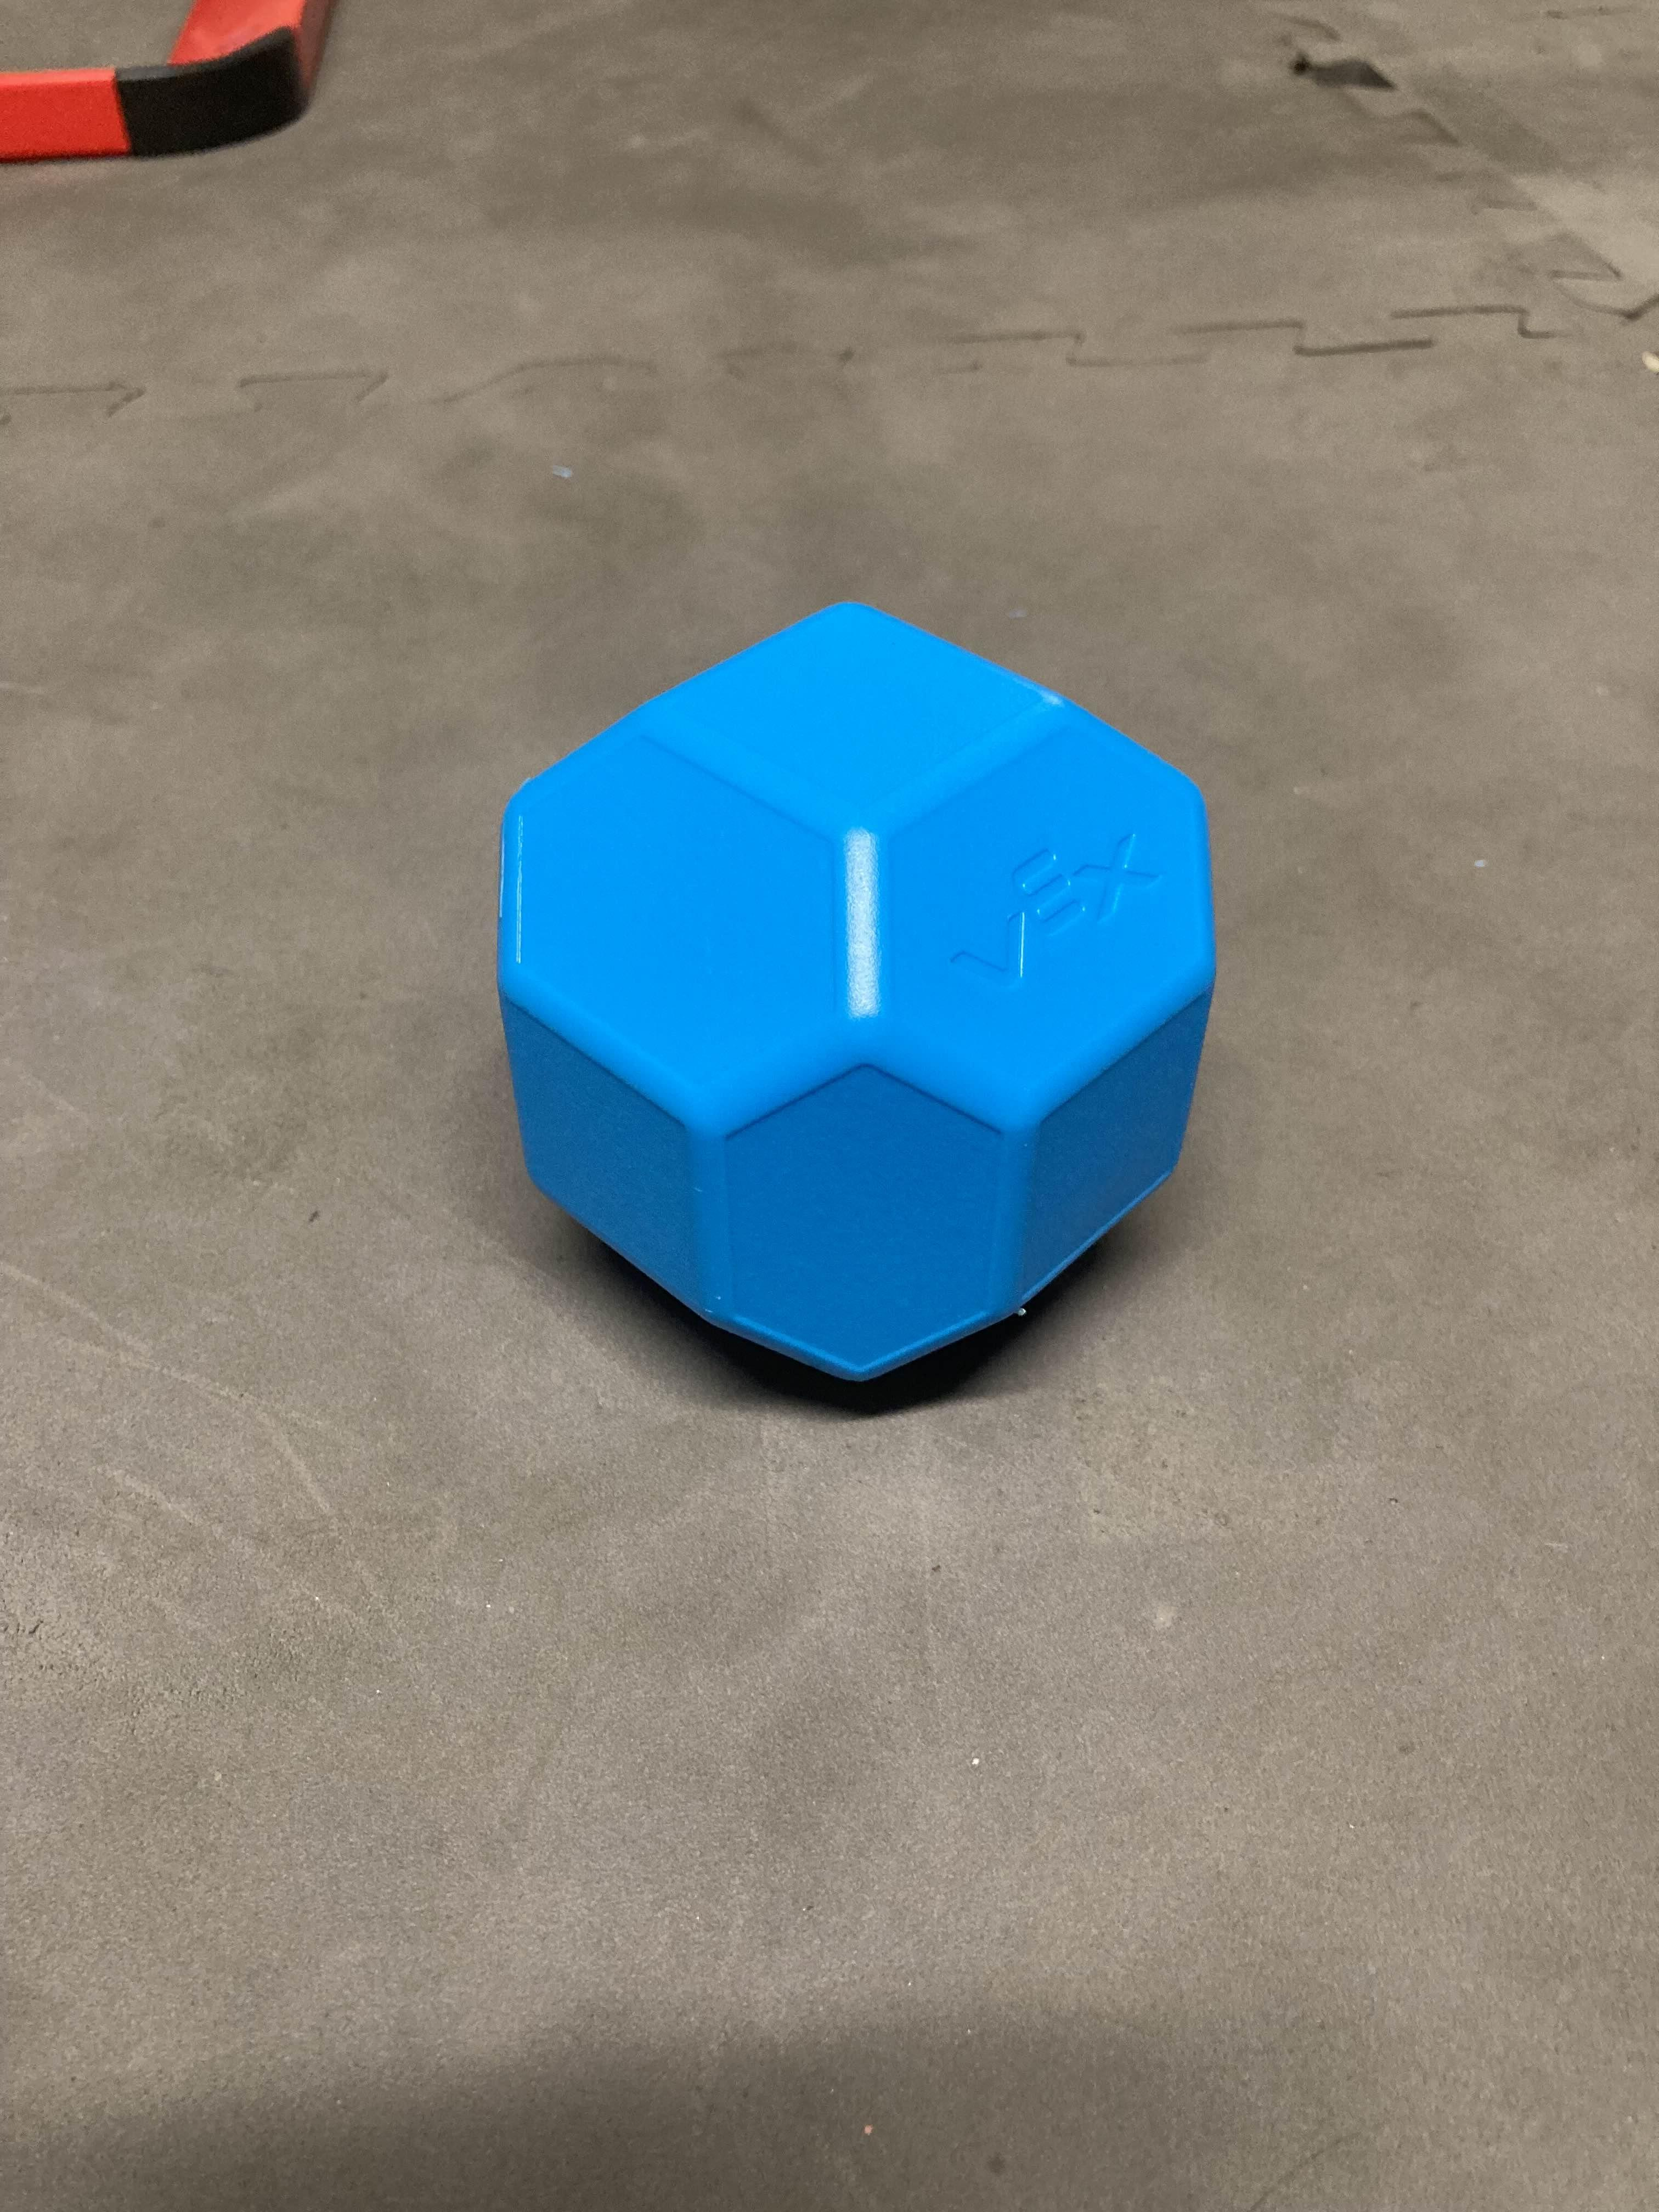Vex-Pieces-BLUE: (497, 601, 1220, 1395)
